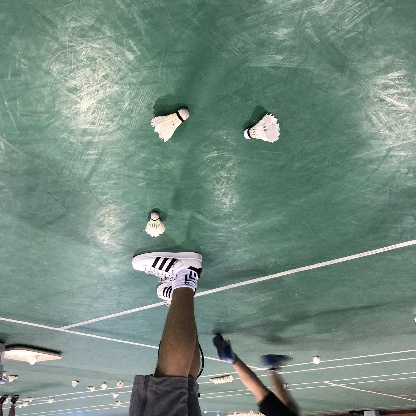ball_single: (150, 108, 189, 142), (243, 113, 280, 143), (145, 212, 165, 237), (209, 375, 233, 384), (8, 376, 18, 382), (313, 356, 320, 364), (72, 380, 79, 387), (87, 386, 95, 392), (117, 381, 123, 387), (101, 383, 107, 389), (113, 393, 119, 399), (116, 401, 120, 406)
